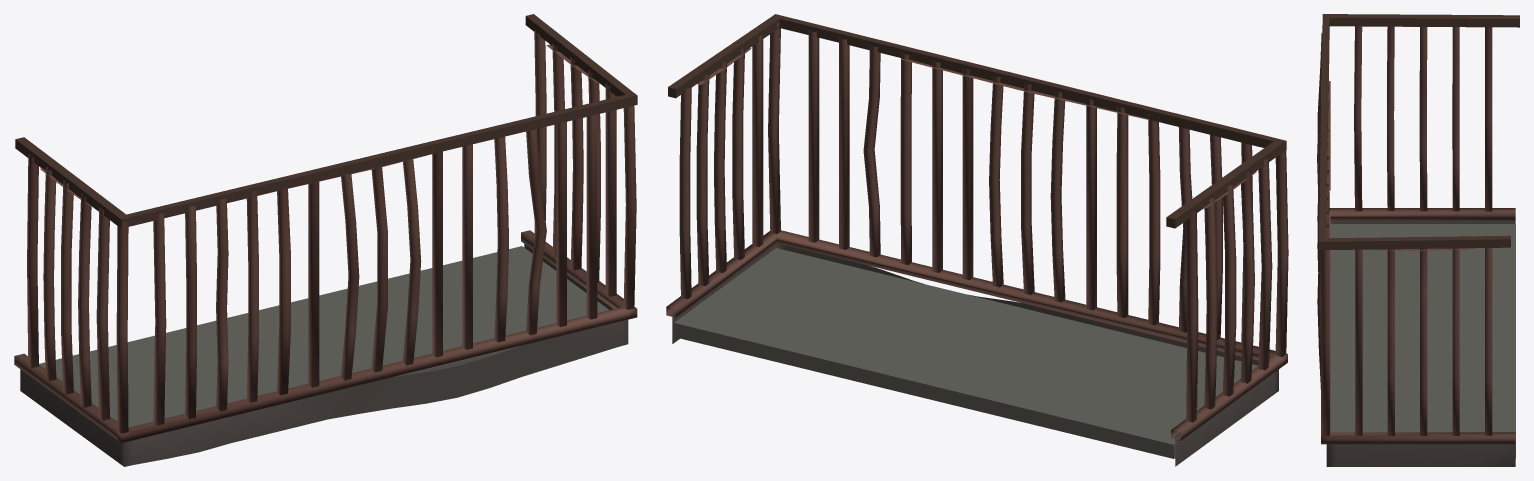
The model's file is OpenFirts.fbx.
3 renders of one model, left to right at view 1: azimuth 30°, elevation 25°; view 2: azimuth 150°, elevation 25°; view 3: azimuth 270°, elevation 25°, orthographic. The views are drawn at different scales.
Parts seen in each view (by area): view 1: Plane; view 2: Plane; view 3: Plane.
Part boxes in pixels (x1,y1,x2,y2): Plane: (14,14,637,466); Plane: (666,14,1288,466); Plane: (1317,14,1519,466).
Size of the model in its own units: 7.09 by 2.64 by 3.47.
